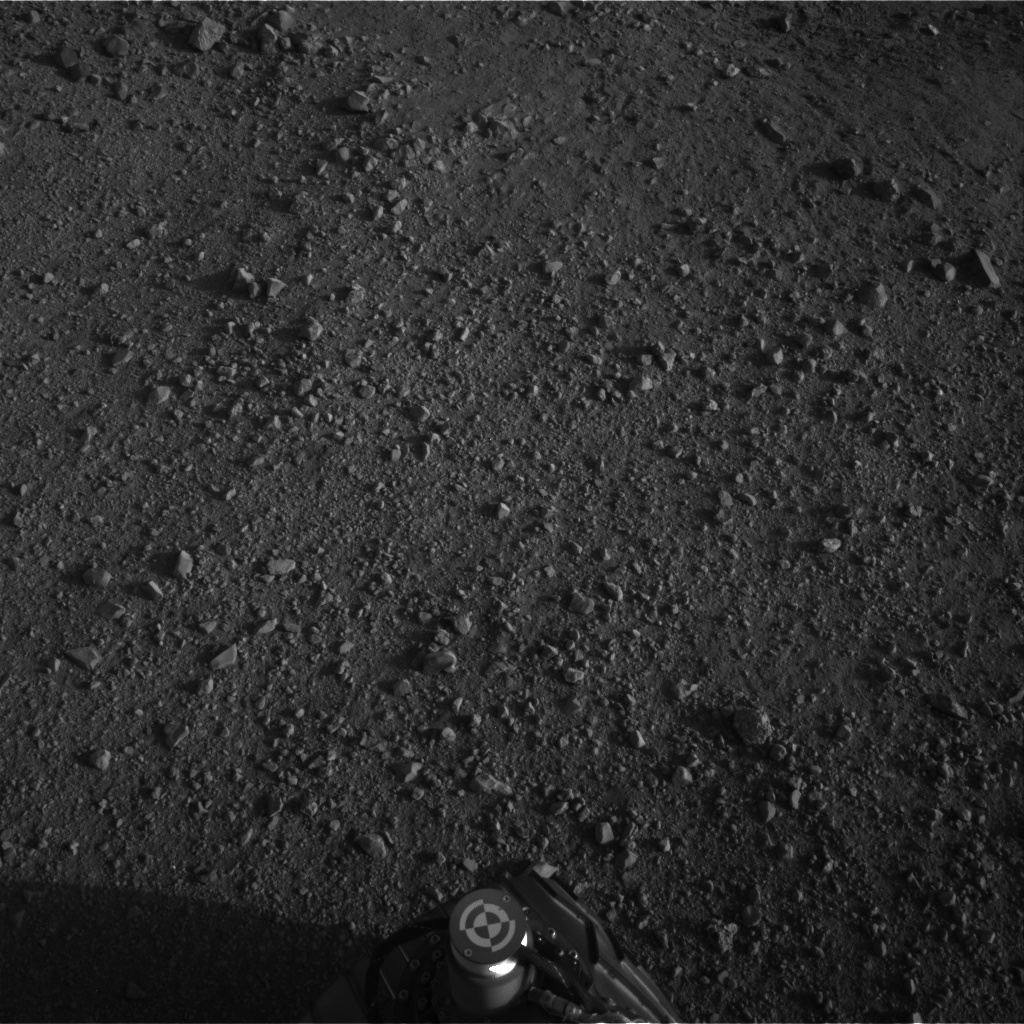soil: (4, 5, 1022, 1020)
